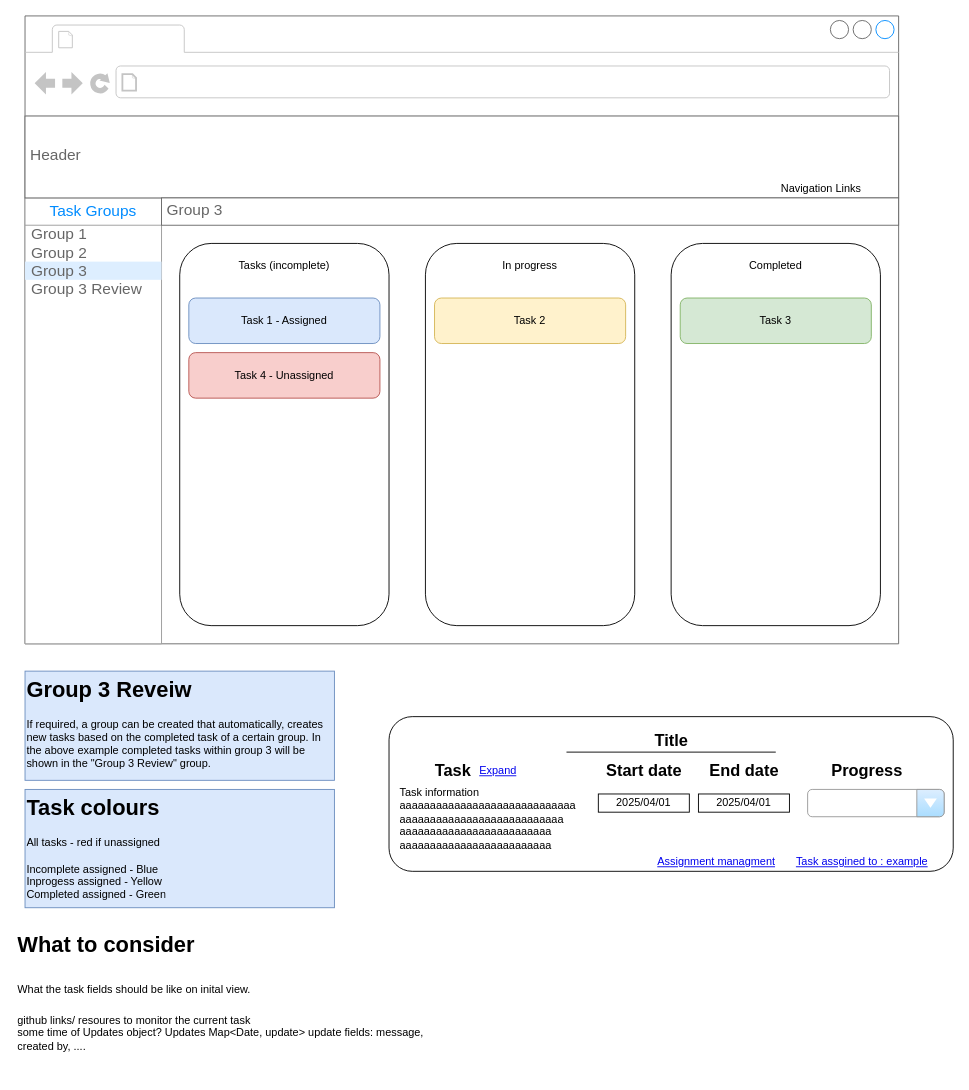
The diagram is 969 pixels wide and 1090 high, and some of its shapes have lost their labels. Each missing label, with the centre of its shape:
"https://www.example.com/tasks" goes at (256,82).
"Incomplete" goes at (875,803).
"Page 1" goes at (129,38).
